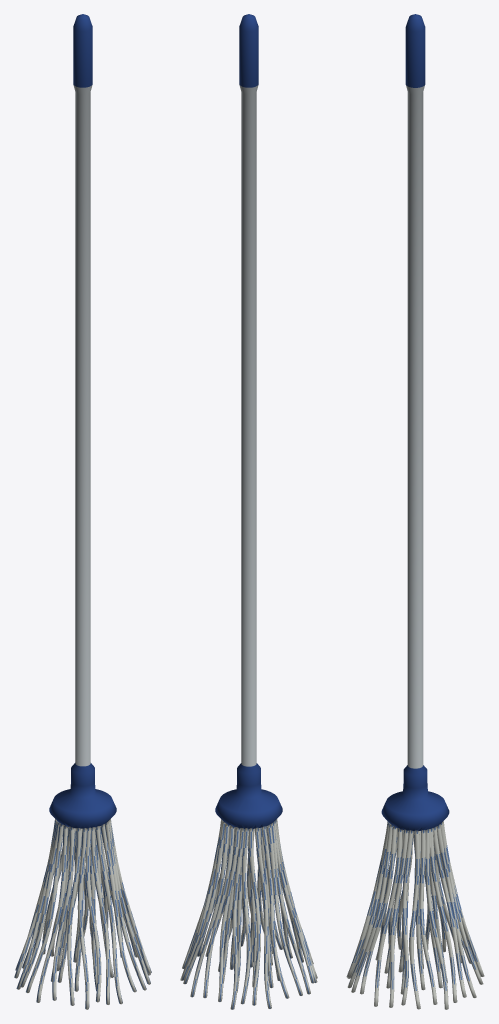
3 views of the same model, side by side, from view 1: azimuth 90°, elevation 25°; view 2: azimuth 150°, elevation 25°; view 3: azimuth 270°, elevation 25° (orthographic).
Parts seen in each view (by area): view 1: NEW306_StringMop_LOD0; view 2: NEW306_StringMop_LOD0; view 3: NEW306_StringMop_LOD0.
Boxes of the visible parts, left/top/right/bottom form: NEW306_StringMop_LOD0: left=14, top=14, right=151, bottom=1009; NEW306_StringMop_LOD0: left=180, top=14, right=317, bottom=1009; NEW306_StringMop_LOD0: left=346, top=14, right=484, bottom=1009.
Bounding box in the file's own units: 0.1954 × 1.52 × 0.1955.
